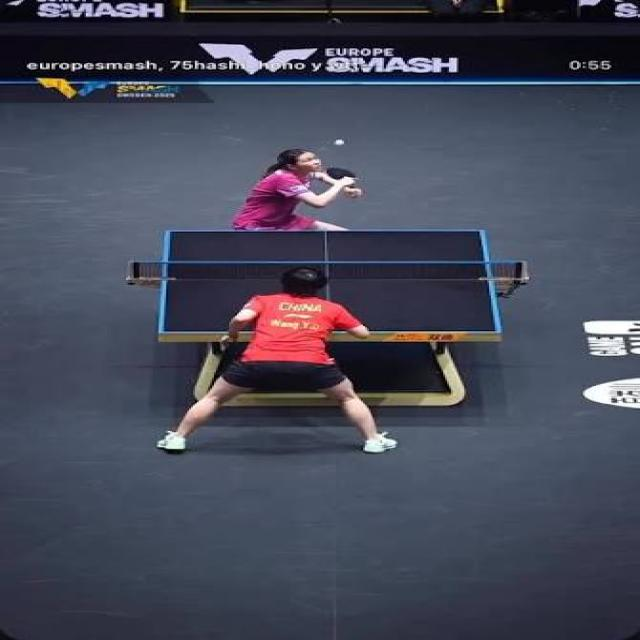TT Net: (123, 260, 532, 285)
TT Racket: (319, 165, 364, 183)
TT Table: (160, 229, 501, 335)
